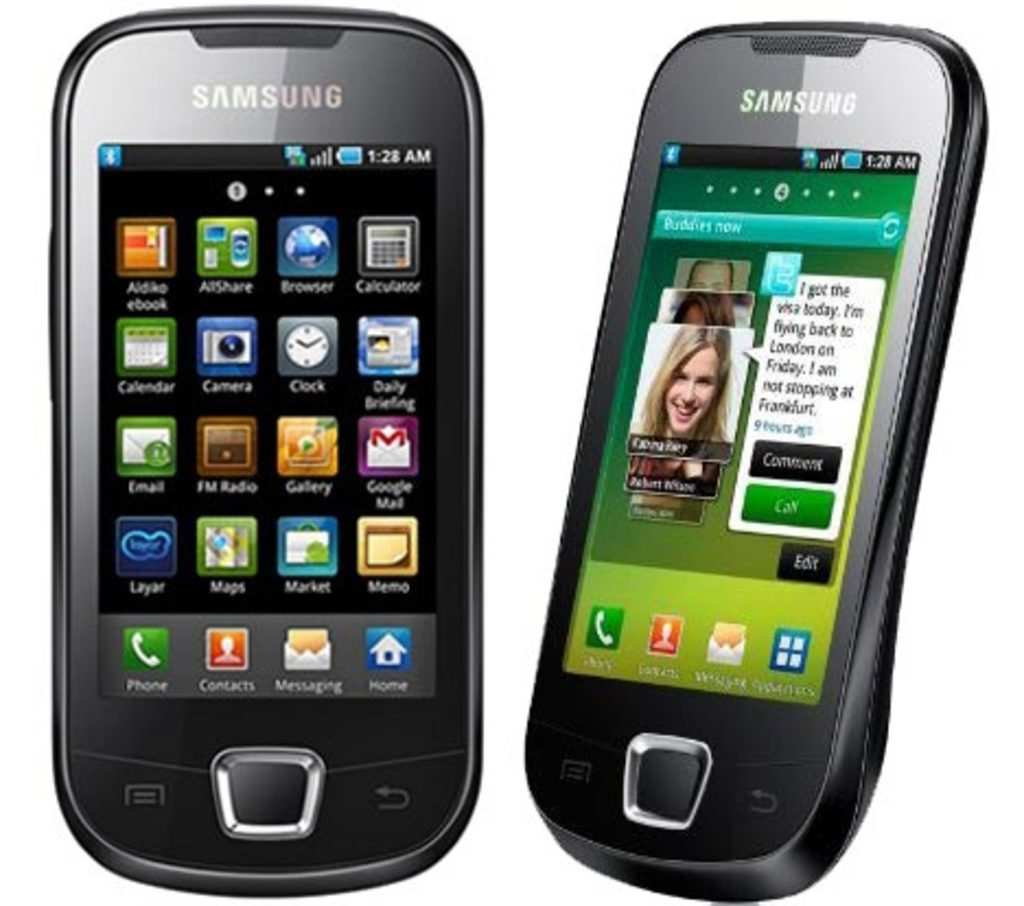Mobile-phone: (519, 15, 996, 904), (48, 4, 481, 902)
